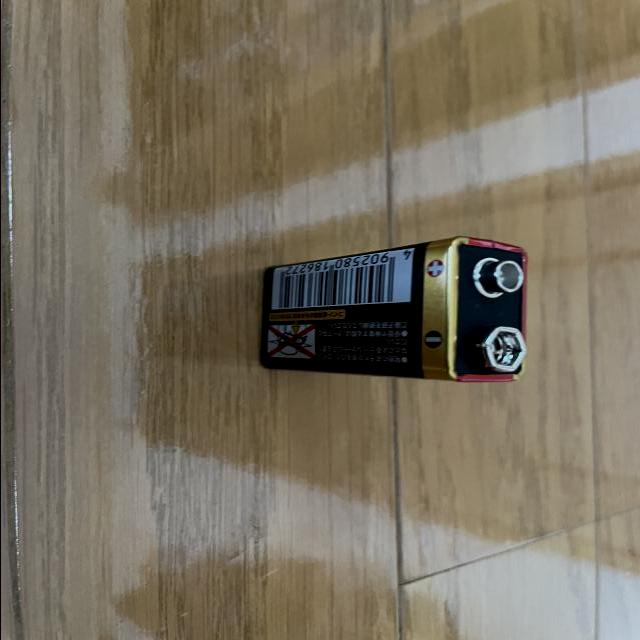9V: (260, 236, 529, 384)
